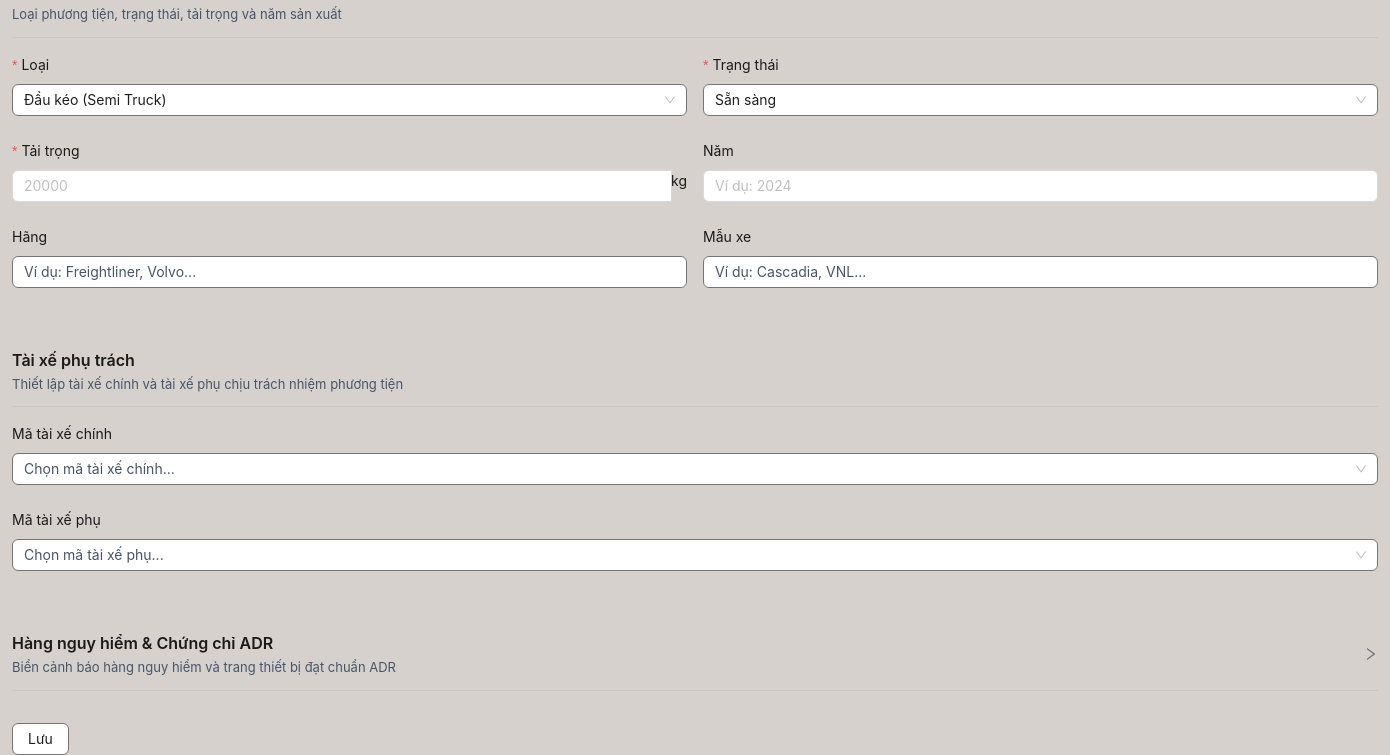
Test: ResourceFormFields — Truck Sections & Conditional Logic › validate không cho phép tài xế phụ trùng với tài xế chính
(page scrolled)
Click the button "Lưu". click: (40, 739)
box: x1=12 y1=723 x2=69 y2=754
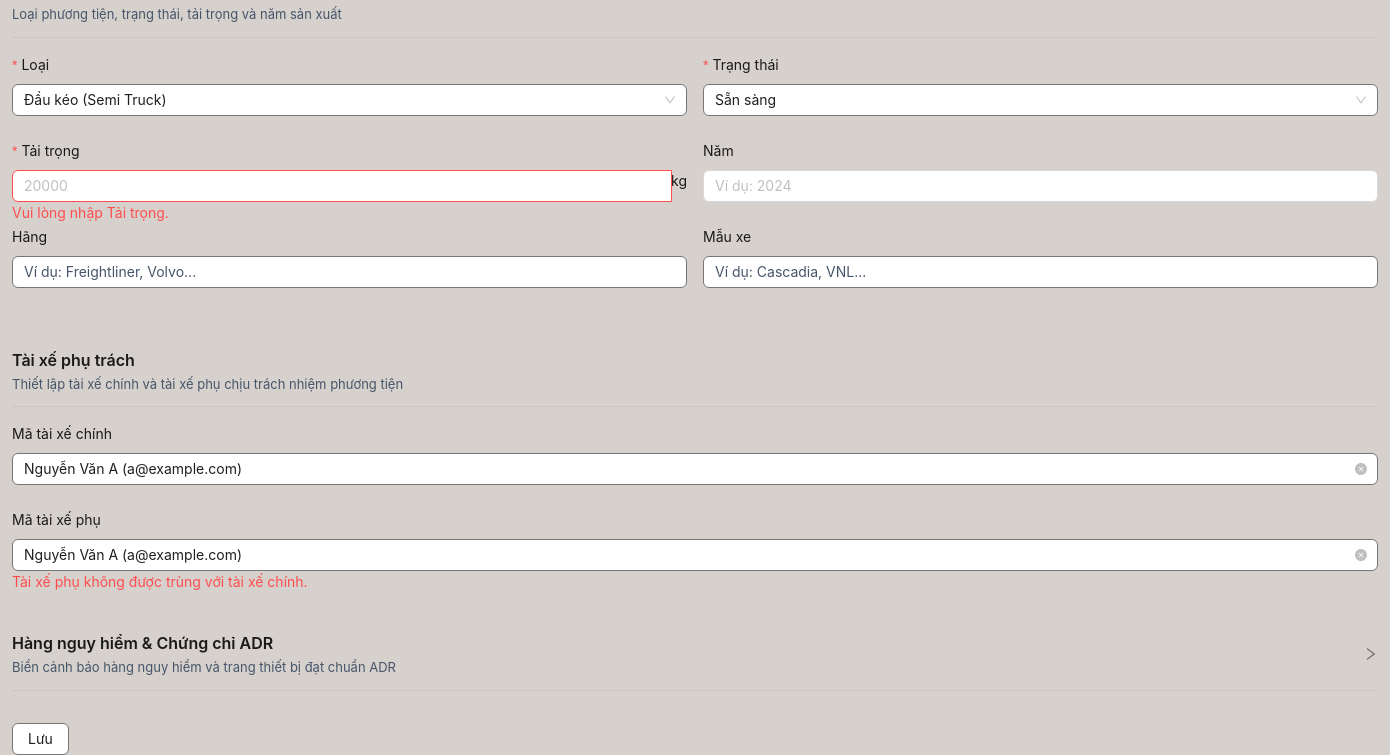
Expected: the text "Tài xế phụ không được trùng với tài xế chính." is shown, x1=12 y1=573 x2=308 y2=590
